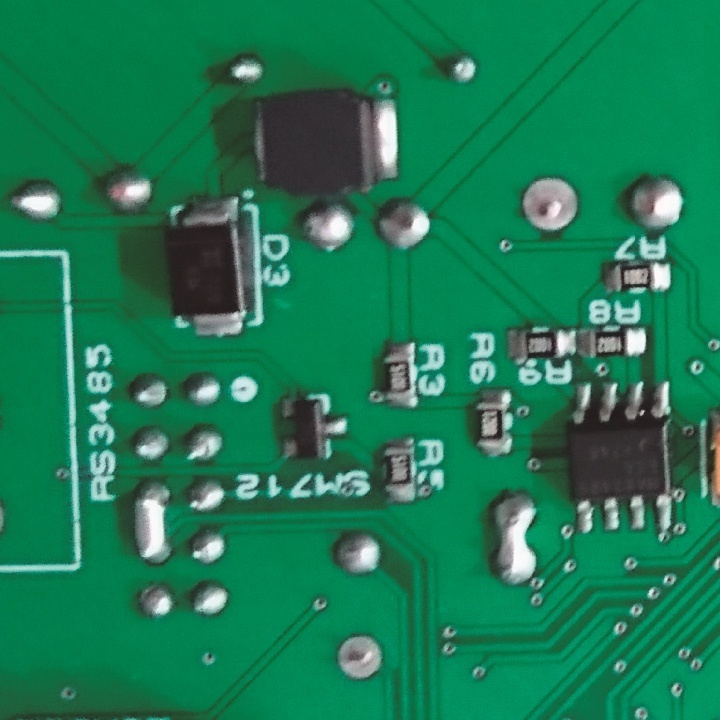F: (519, 173, 579, 234), (336, 632, 386, 681)
P: (485, 489, 539, 586), (125, 478, 174, 566)
